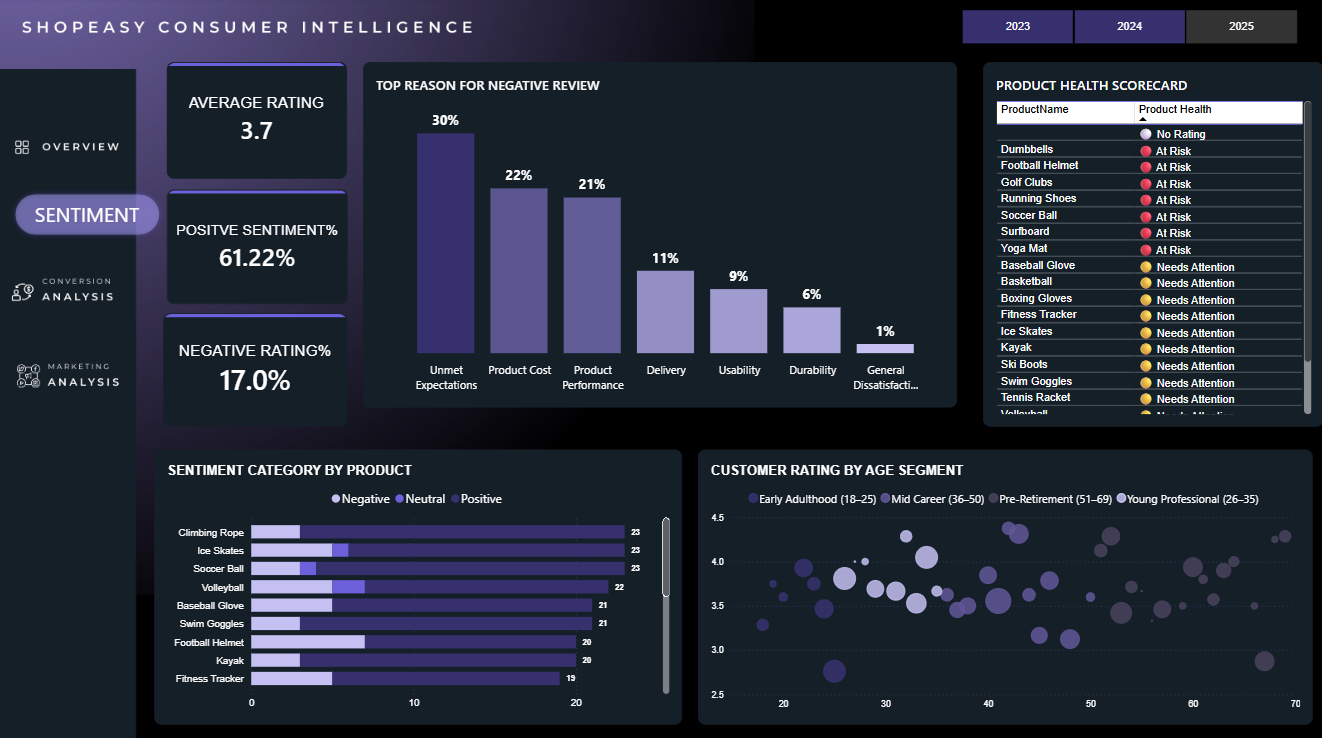

What the dashboard file says about the page in this screenshot:
{"tool":"powerbi","page":{"name":" Customer Sentiment","canvas":[1600,900],"ordinal":1},"visuals":[{"type":"cardVisual","fields":{"Data":["calculations.average rating"]},"box":[204,78.2,217.8,141.1],"z":0},{"type":"barChart","title":"SENTIMENT CATEGORY BY PRODUCT","fields":{"Category":["products.ProductName"],"Y":["CountNonNull(customer_reviews_sentiment.ReviewID)"],"Series":["customer_reviews_sentiment.SentimentCategory"]},"box":[188.3,546.7,636.7,331.7],"z":1000},{"type":"shape","box":[0,216.7,161.7,63.3],"z":2000},{"type":"clusteredColumnChart","title":"TOP REASON FOR NEGATIVE  REVIEW","fields":{"Category":["negative_reviews_issues.IssueCategory"],"Y":["Divide(CountNonNull(negative_reviews_issues.IssueCategory), ScopedEval(CountNonNull(negative_reviews_issues.IssueCategor"]},"box":[440,78.3,716.7,416.7],"z":3000},{"type":"scatterChart","title":"CUSTOMER RATING BY AGE SEGMENT","fields":{"Series":["customers.Age Segment"],"X":["customers.Age"],"Size":["CountNonNull(customer_reviews_sentiment.ReviewID)"],"Y":["Avg(customer_reviews_sentiment.Rating)"]},"box":[845,546.7,741.7,331.7],"z":4000},{"type":"tableEx","title":"PRODUCT HEALTH SCORECARD","fields":{"Values":["products.ProductName","calculations.Product Health"]},"box":[1188.3,78.3,411.7,440],"z":5000},{"type":"cardVisual","fields":{"Data":["calculations.% Positive Sentiment"]},"box":[203.3,231.7,218.3,138.3],"z":6000},{"type":"cardVisual","fields":{"Data":["negative_reviews_issues.neagtive review %"]},"box":[199.4,381.9,222.4,136.5],"z":7000},{"type":"shape","box":[0,216.7,215,90],"z":8000},{"type":"slicer","fields":{"Values":["Calendar.Date.Variation.Date Hierarchy.Year"]},"box":[1142.6,13.1,442.6,44.3],"z":9000},{"type":"pageNavigator","box":[0,306.7,183.3,205],"z":10000},{"type":"pageNavigator","box":[0,131.7,183.3,100],"z":11000}]}

Visuals, with their boxes on the page's 1600x900 design canvas (x1, y1, x2, y2). These are canvas units, not pixel positions in the 1322x738 screenshot, which may show the page scaled, cropped or inside an application window:
cardVisual - calculations.average rating: bbox=(204, 78, 422, 219)
"SENTIMENT CATEGORY BY PRODUCT" barChart: bbox=(188, 547, 825, 878)
shape: bbox=(0, 217, 162, 280)
"TOP REASON FOR NEGATIVE  REVIEW" clusteredColumnChart: bbox=(440, 78, 1157, 495)
"CUSTOMER RATING BY AGE SEGMENT" scatterChart: bbox=(845, 547, 1587, 878)
"PRODUCT HEALTH SCORECARD" tableEx: bbox=(1188, 78, 1600, 518)
cardVisual - calculations.% Positive Sentiment: bbox=(203, 232, 422, 370)
cardVisual - negative_reviews_issues.neagtive review %: bbox=(199, 382, 422, 518)
shape: bbox=(0, 217, 215, 307)
slicer - Calendar.Date.Variation.Date Hierarchy.Year: bbox=(1143, 13, 1585, 57)
pageNavigator: bbox=(0, 307, 183, 512)
pageNavigator: bbox=(0, 132, 183, 232)
